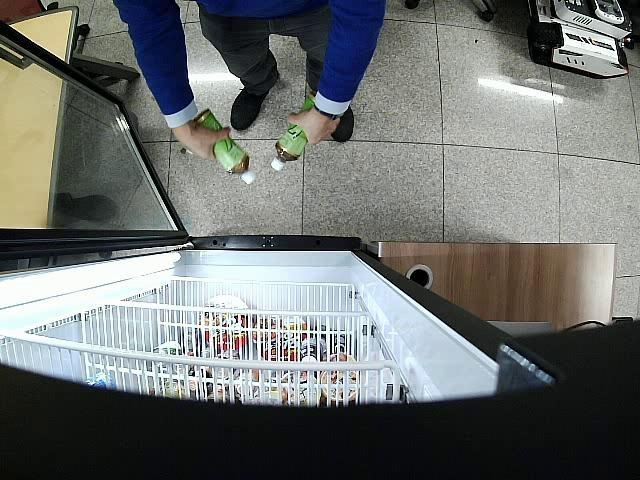19_17cha: (194, 109, 256, 184), (270, 92, 320, 172)
